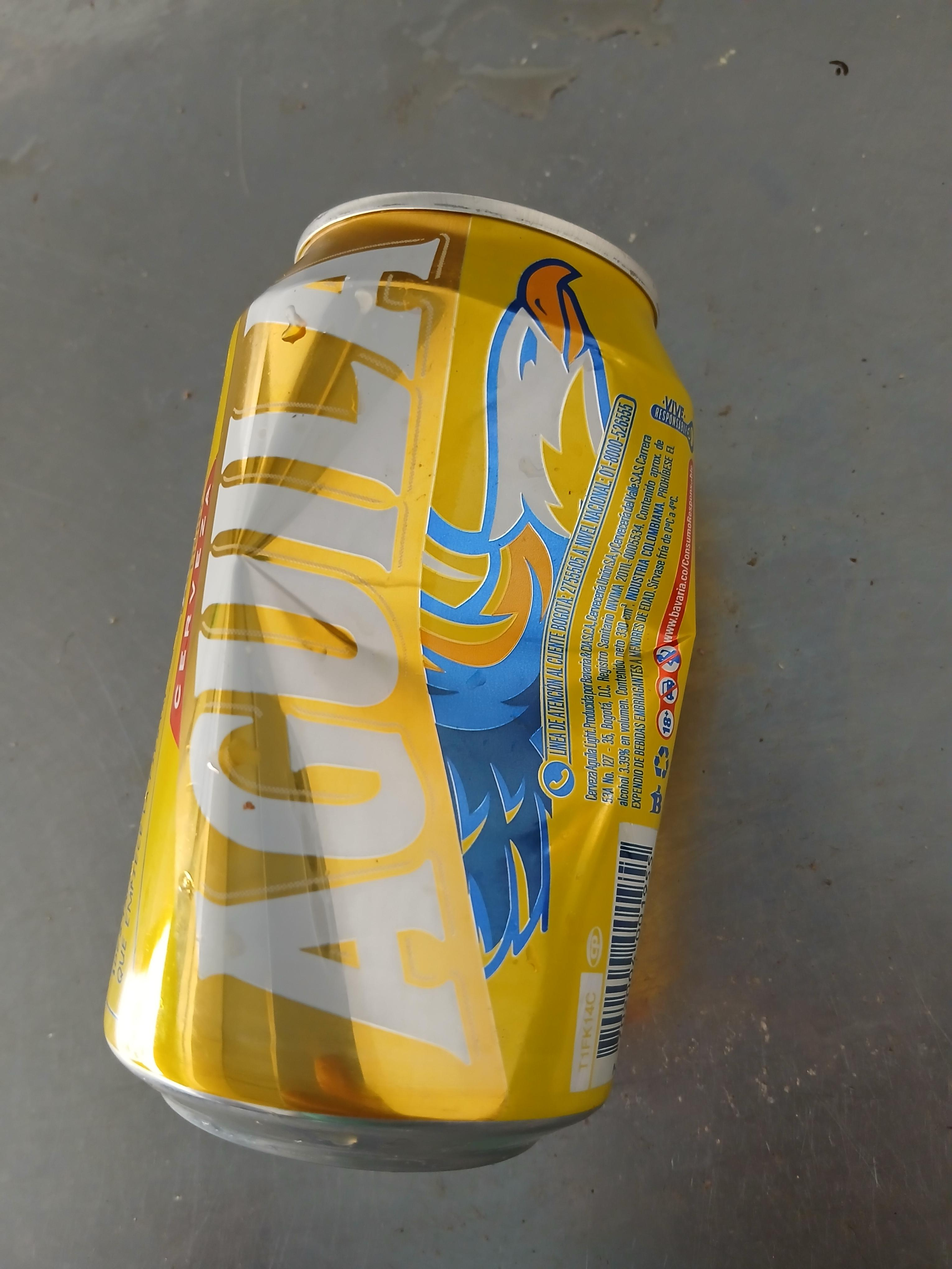Metal: (101, 186, 696, 1172)
